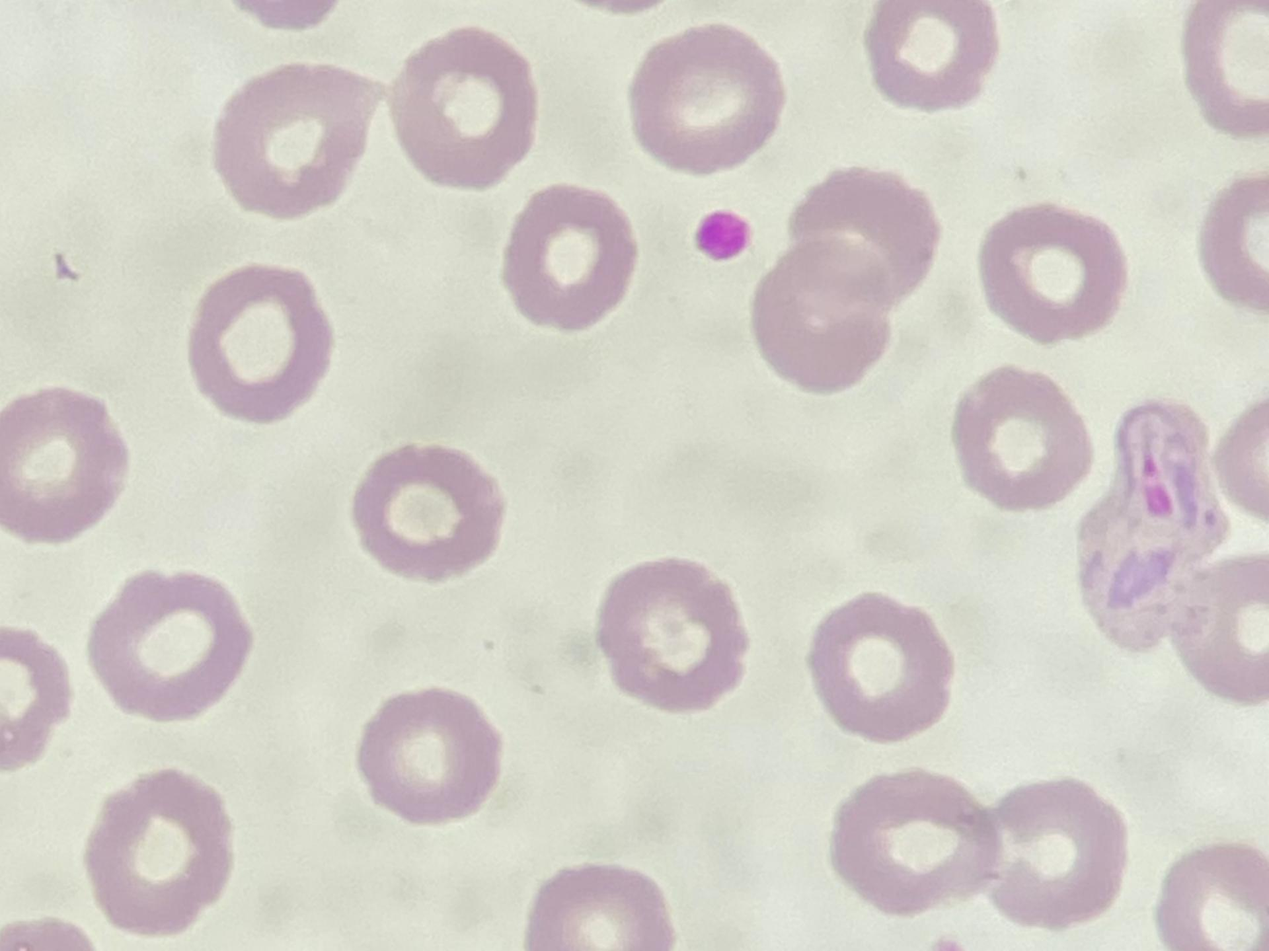Infected: (1072, 395, 1234, 658)
Uninfected: (215, 65, 388, 221), (88, 569, 257, 723), (958, 777, 1122, 933), (833, 770, 1004, 918), (83, 770, 232, 939), (631, 22, 785, 177), (393, 28, 539, 191), (598, 559, 748, 715), (190, 263, 336, 421), (783, 169, 943, 308), (354, 443, 504, 585), (750, 242, 893, 390), (810, 595, 954, 741), (952, 364, 1096, 510), (980, 204, 1126, 346), (0, 389, 130, 547), (360, 688, 506, 828), (499, 184, 638, 330), (861, 0, 1000, 110), (526, 866, 676, 951)
